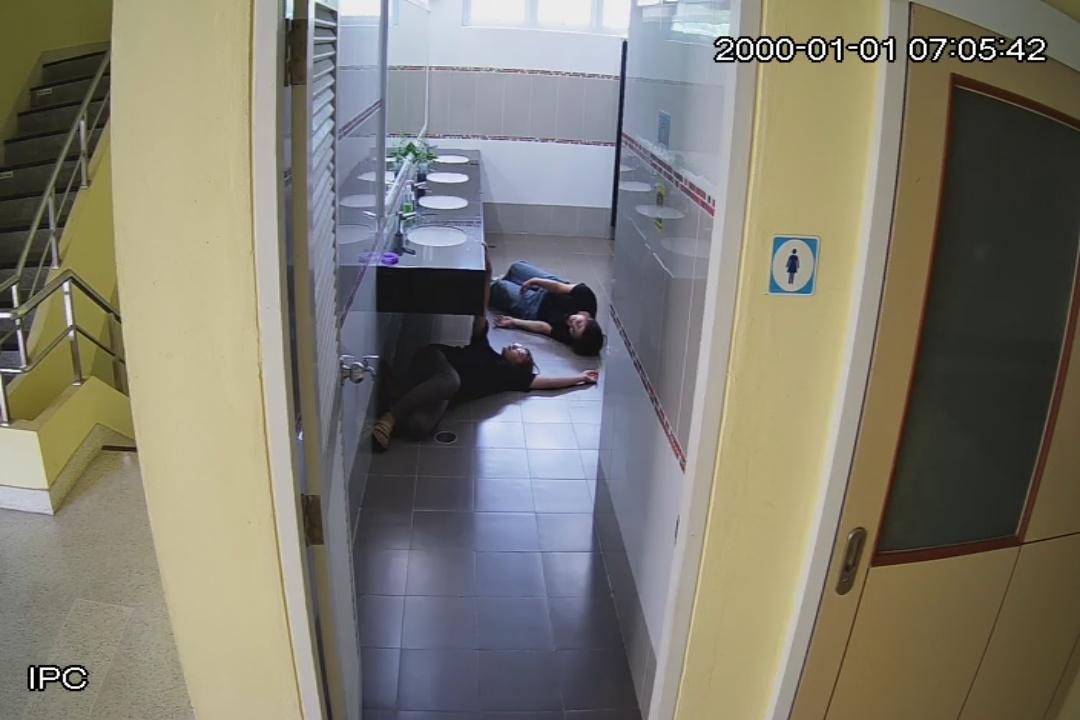fall: (374, 249, 602, 447), (493, 260, 601, 351)
